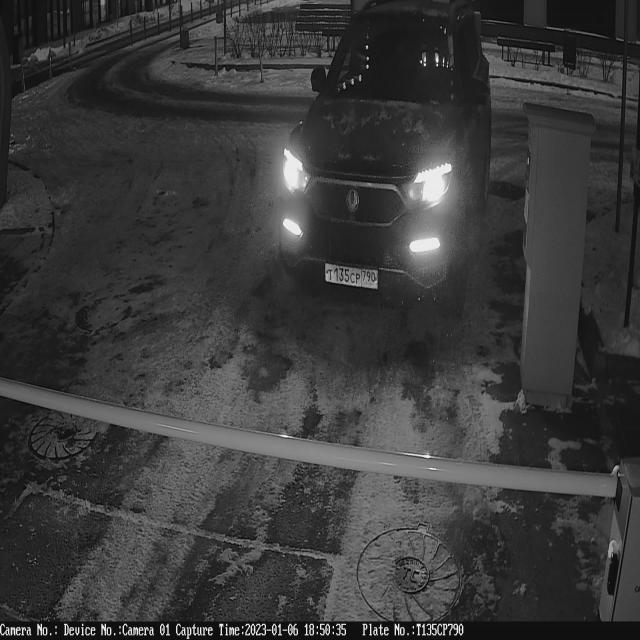car-plate-numbers: (322, 254, 382, 299)
